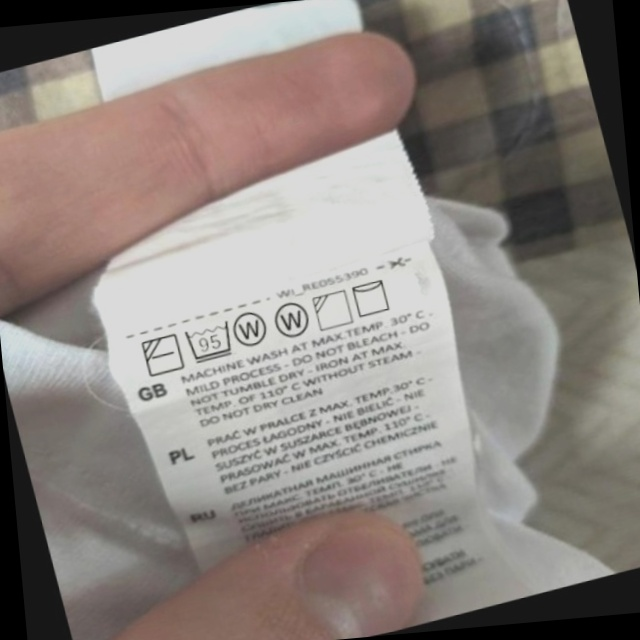95C: (181, 316, 239, 367)
dry_flat_in_shade: (137, 329, 187, 381)
line_dry: (347, 273, 396, 321)
shade_dry: (309, 285, 357, 334)
wet_clean: (228, 303, 274, 352), (269, 296, 315, 345)
